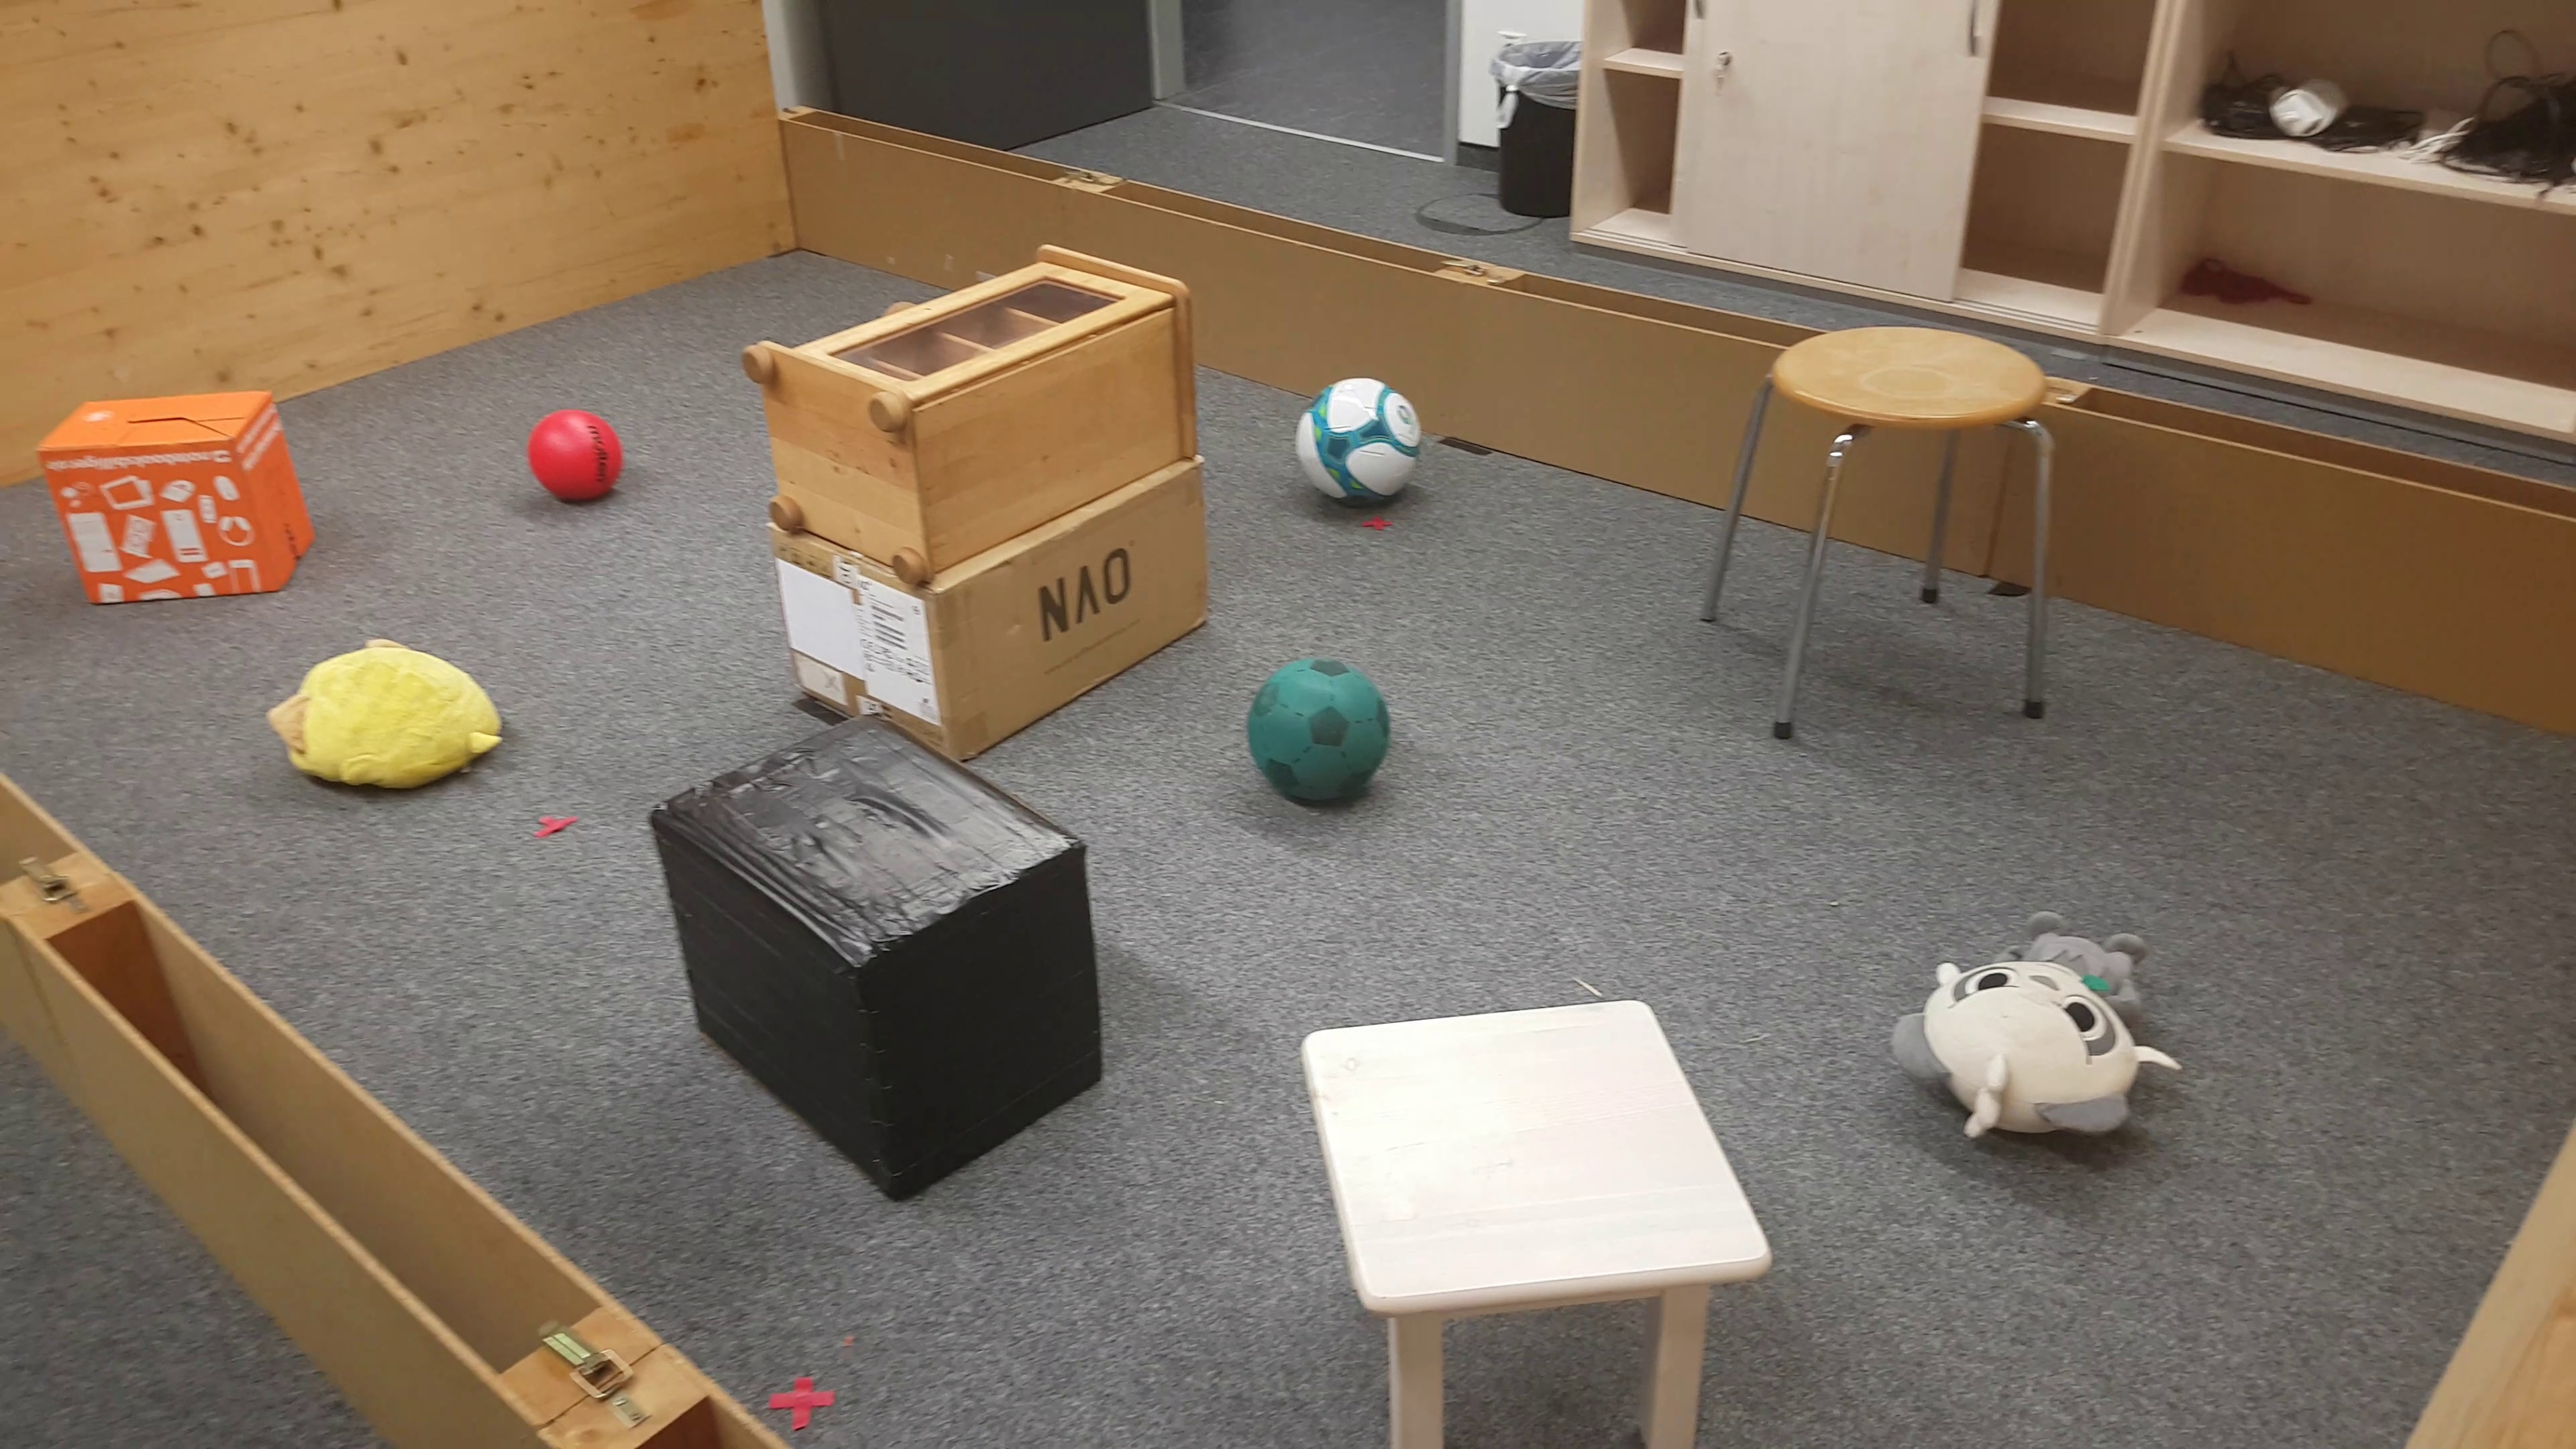grasp: (1884, 916, 2185, 1166), (269, 635, 511, 794)
kick: (1244, 655, 1392, 809), (1288, 375, 1440, 515), (525, 410, 637, 510)
push: (655, 715, 1108, 1196), (39, 389, 320, 603)
